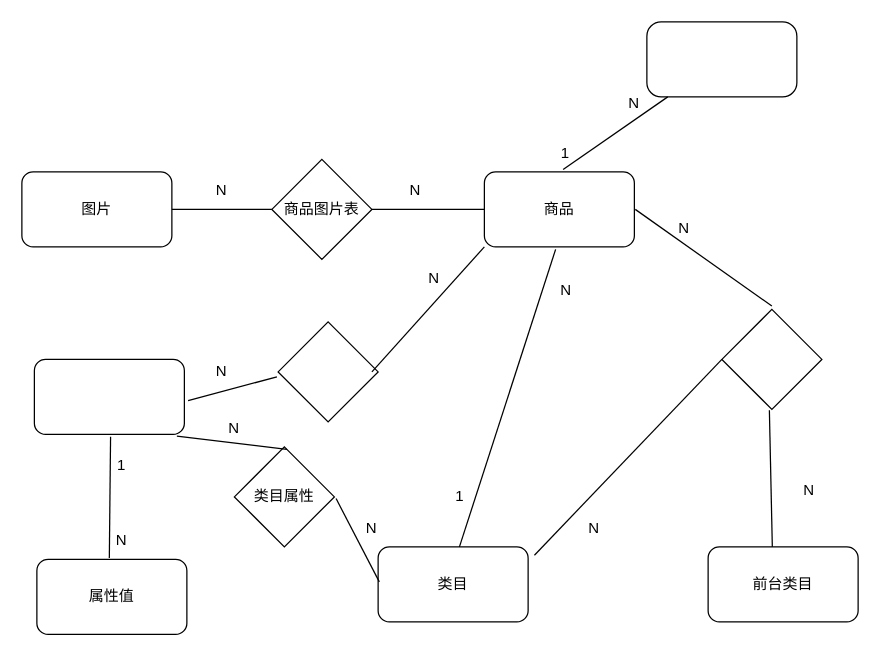
This 880x656 diagram has some shape labels left out. Each missing label, with the box of its shape:
前台商品类目: (721, 308, 822, 409)
商品sku: (646, 21, 797, 97)
商品属性: (277, 321, 378, 422)
属性类型: (33, 358, 184, 434)
